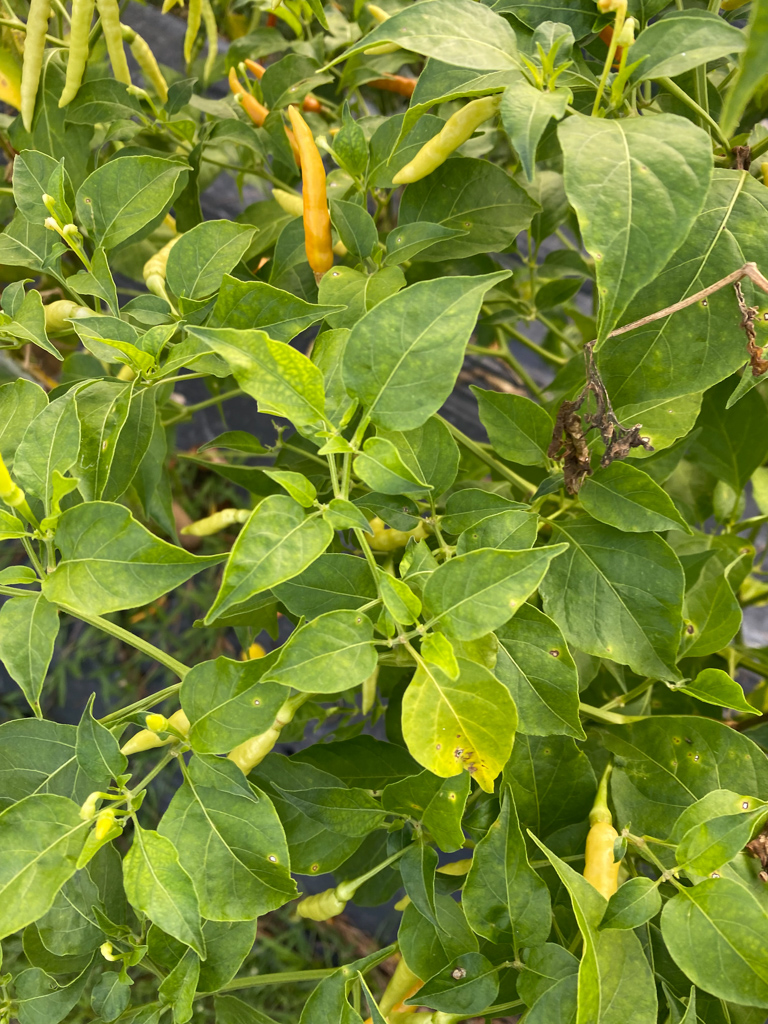frog-eye leafspot: (684, 617, 701, 641), (588, 245, 608, 263), (545, 645, 561, 661), (247, 694, 262, 711), (598, 280, 611, 298), (264, 852, 280, 866), (686, 750, 702, 764), (445, 787, 457, 805), (308, 858, 322, 873), (462, 220, 477, 232), (708, 871, 724, 882), (739, 798, 751, 812), (82, 195, 94, 207), (352, 614, 365, 625), (329, 269, 342, 280), (700, 297, 710, 308), (470, 531, 480, 539), (761, 309, 767, 322)
